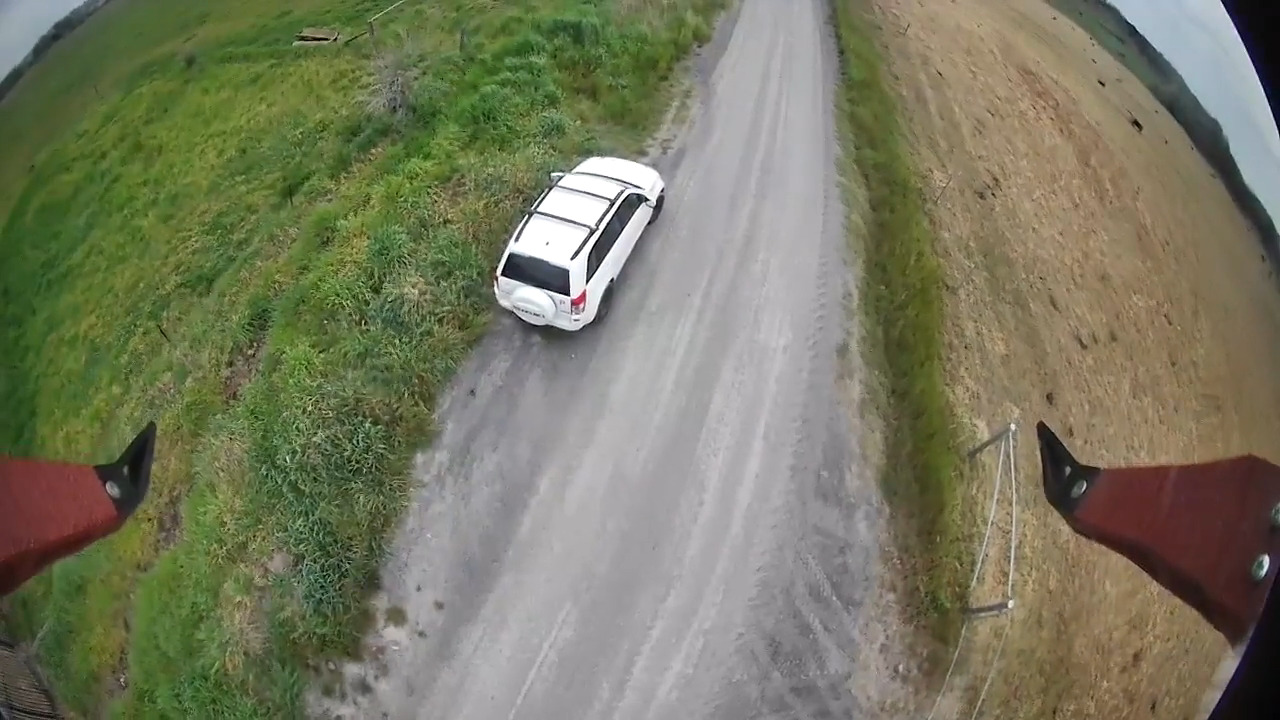Car: (493, 156, 665, 331)
